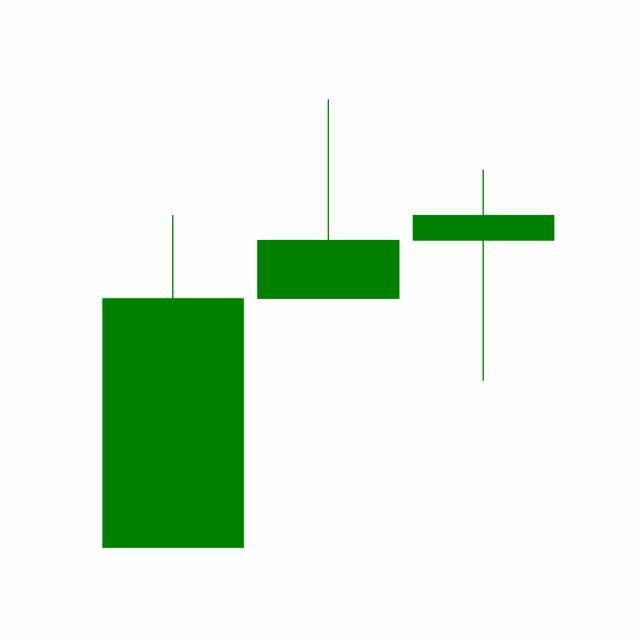Spinning Top: (406, 167, 562, 385)
